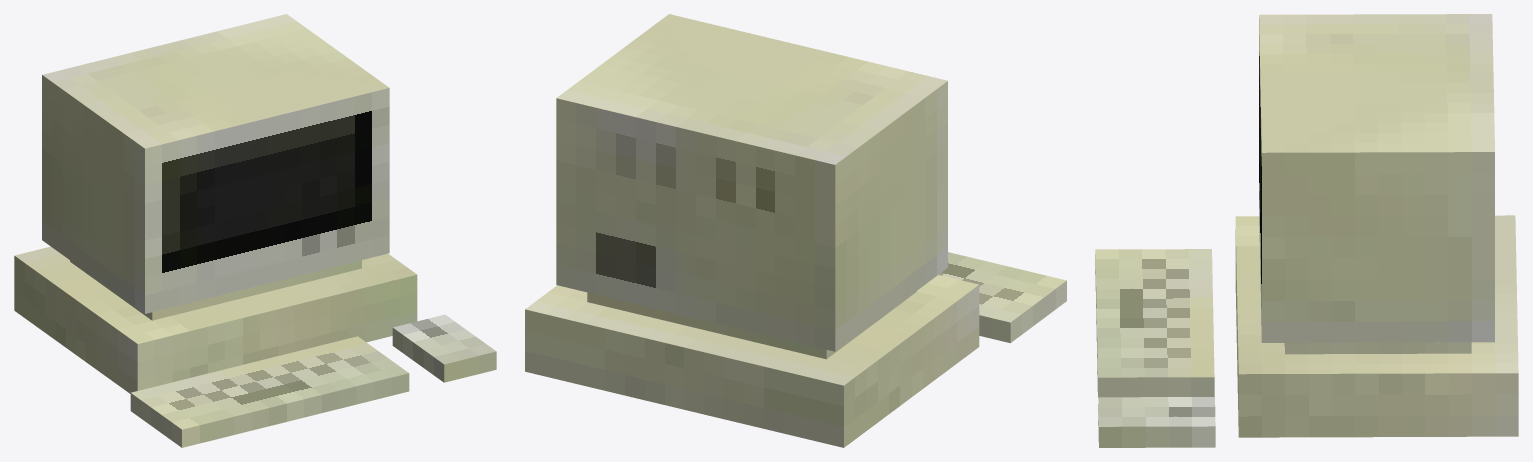
File: retro-transformed.glb
3 views of the same model, side by side, from view 1: azimuth 30°, elevation 25°; view 2: azimuth 150°, elevation 25°; view 3: azimuth 270°, elevation 25° (orthographic). The views are drawn at different scales.
Parts seen in each view (by area): view 1: Object_10, Object_7, Object_21, Object_12, Object_5, Object_14, Object_15; view 2: Object_9, Object_7, Object_12, Object_5, Object_14, Object_21, Object_15; view 3: Object_6, Object_7, Object_21, Object_12, Object_14, Object_15, Object_10.
Boxes of the visible parts, box(x1,y1,x2,y2) form: Object_10: box(145, 88, 389, 313); Object_7: box(42, 14, 389, 148); Object_21: box(130, 314, 496, 447); Object_12: box(14, 256, 417, 393); Object_5: box(42, 75, 144, 313); Object_14: box(14, 246, 416, 343); Object_15: box(70, 260, 361, 320); Object_9: box(556, 98, 835, 351); Object_7: box(556, 14, 947, 164); Object_12: box(525, 285, 979, 447); Object_5: box(835, 81, 947, 351); Object_14: box(525, 275, 978, 385); Object_21: box(938, 252, 1066, 343); Object_15: box(587, 291, 916, 359); Object_6: box(1262, 152, 1494, 342); Object_7: box(1259, 14, 1494, 152); Object_21: box(1095, 249, 1215, 447); Object_12: box(1235, 229, 1518, 437); Object_14: box(1235, 215, 1518, 374); Object_15: box(1245, 342, 1471, 374); Object_10: box(1259, 18, 1261, 342).
Bounding box in the file's own units: 1.13 × 0.8126 × 1.13.
Materials: 10 (10 with a texture image).
